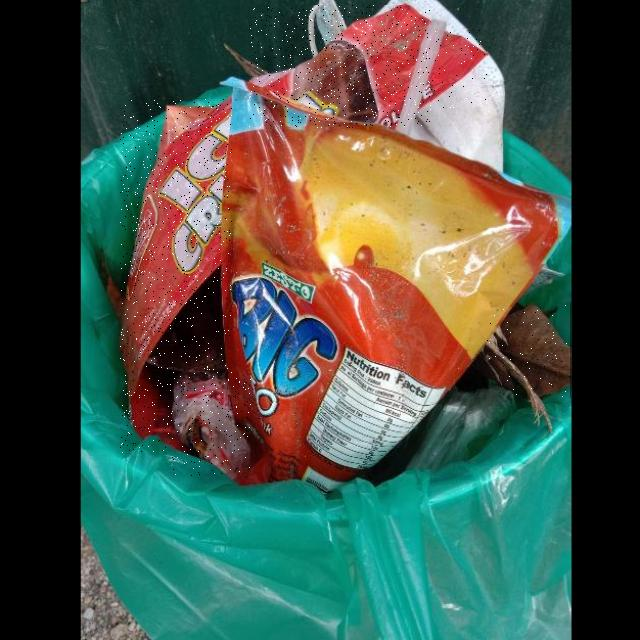biowaste: (487, 303, 571, 398)
plastic: (172, 378, 251, 476)
wrapper: (220, 81, 560, 493), (120, 100, 232, 453), (250, 6, 430, 128), (421, 30, 487, 110)
